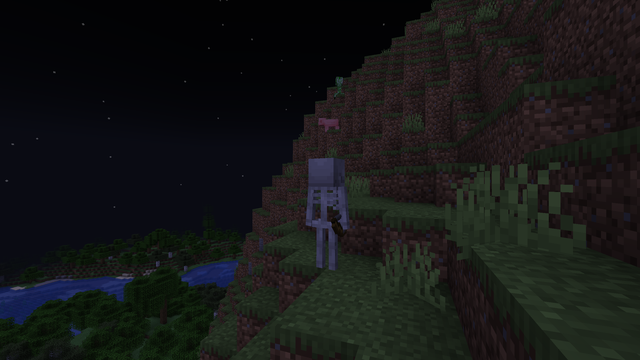cochons: (323, 118, 337, 133)
creepers: (334, 75, 343, 99)
squelettes: (305, 158, 346, 275)
